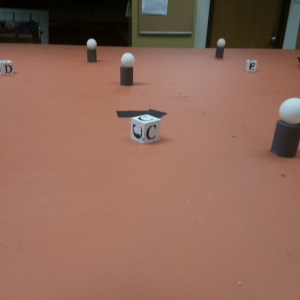blockC: (130, 115, 159, 144)
blockD: (1, 58, 15, 77)
blockE: (245, 59, 256, 73)
obstacle: (274, 96, 300, 156), (120, 54, 135, 85), (85, 39, 98, 63), (215, 38, 224, 60)
start: (112, 109, 169, 120)
